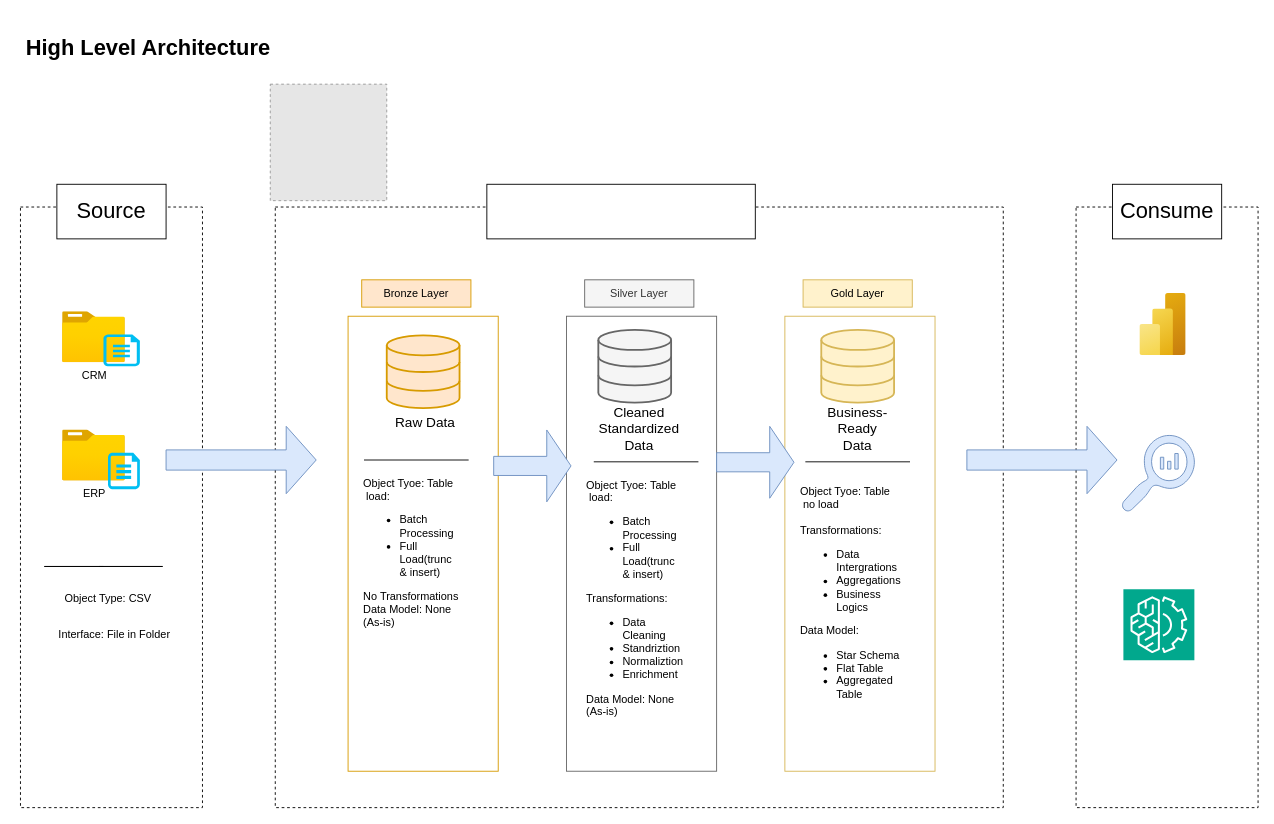
Image size: 1274x824. Some labels were removed from this diagram. Grey dashed boxes stand in for pictures. Here are the shapes that lost their labels. From the top down, the centre of each, then its label:
point 620,211: Data Warehouse
point 1162,324: Bi & Reporting
point 1157,473: Ad-Hoc Analysis
point 1158,624: Machine Learing
